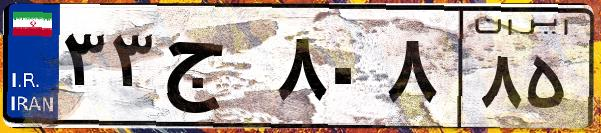0: (330, 28, 385, 110)
3: (57, 26, 110, 100), (110, 28, 158, 98)
5: (525, 38, 570, 115)
8: (270, 28, 330, 110), (385, 28, 445, 110), (475, 38, 525, 113)
ج: (158, 20, 270, 120)
